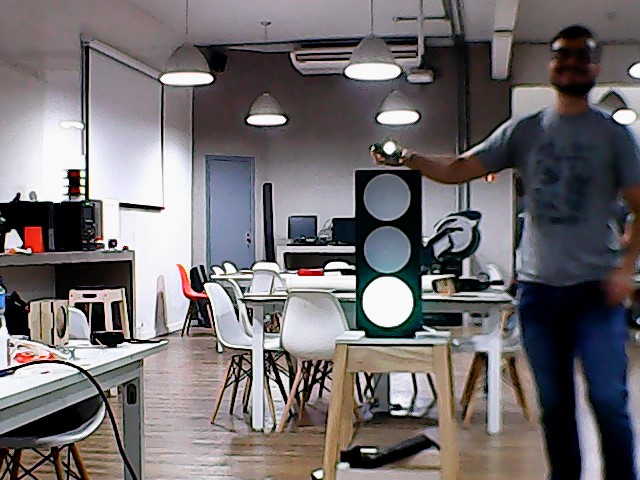verde: (351, 167, 424, 345)
